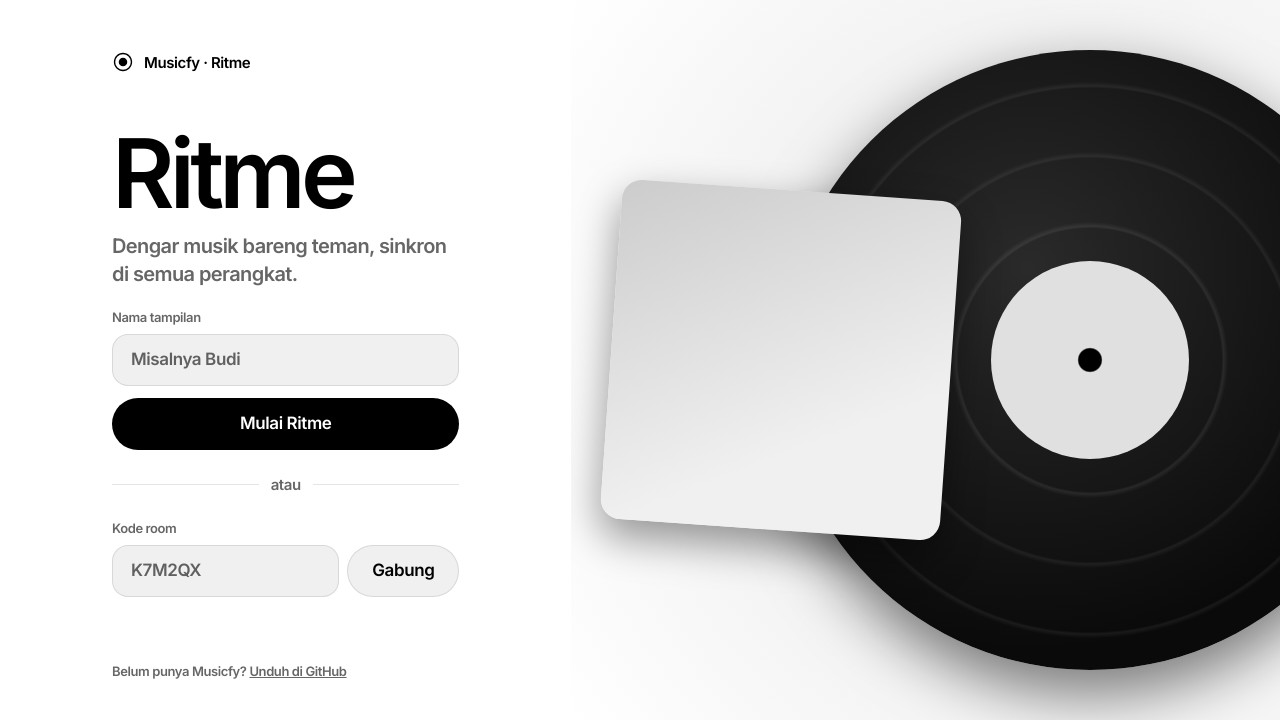
it: HomeScreen › refuses an empty name and a bad code
This screenshot has width=1280, height=720.
Click the button "Mulai Ritme".
click(286, 424)  # box [112,398,459,450]
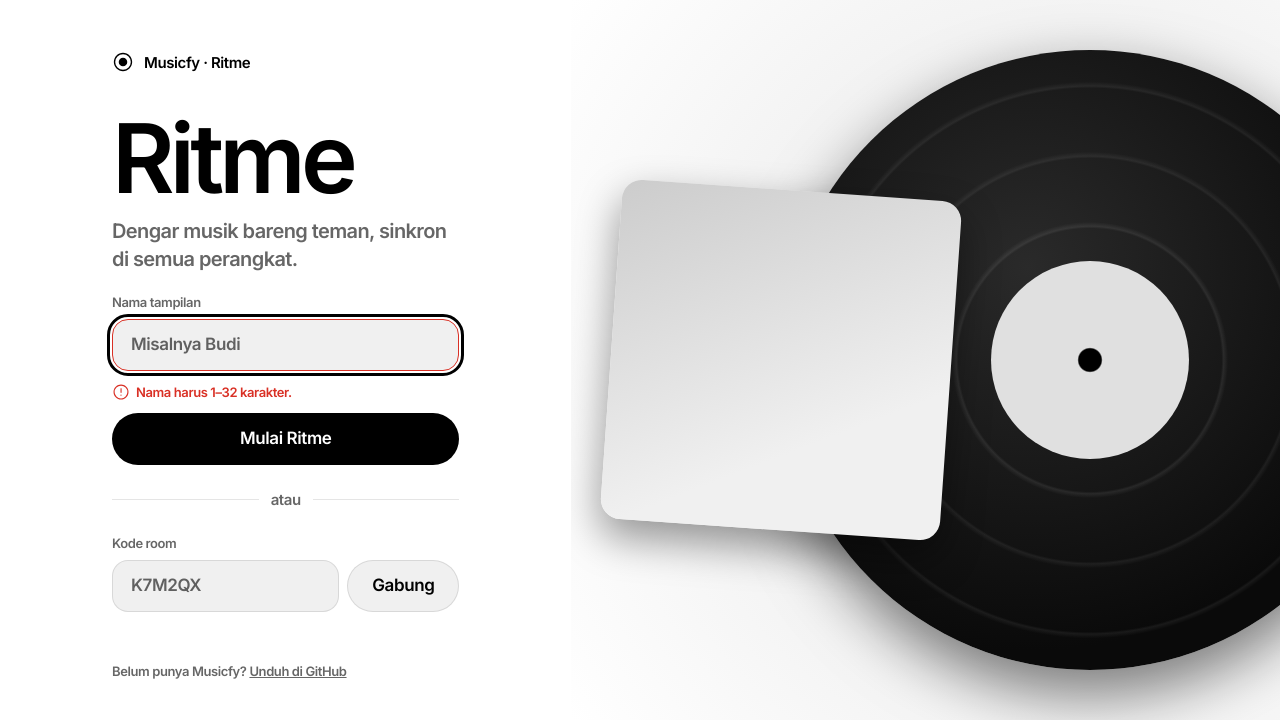
Now the message reads "Nama harus 1–32 karakter.", box [136,384,292,400]
Type "Sari" into the field labelled "Nama tampilan".
click(286, 345); type("Sari")  # box [112,319,459,371]
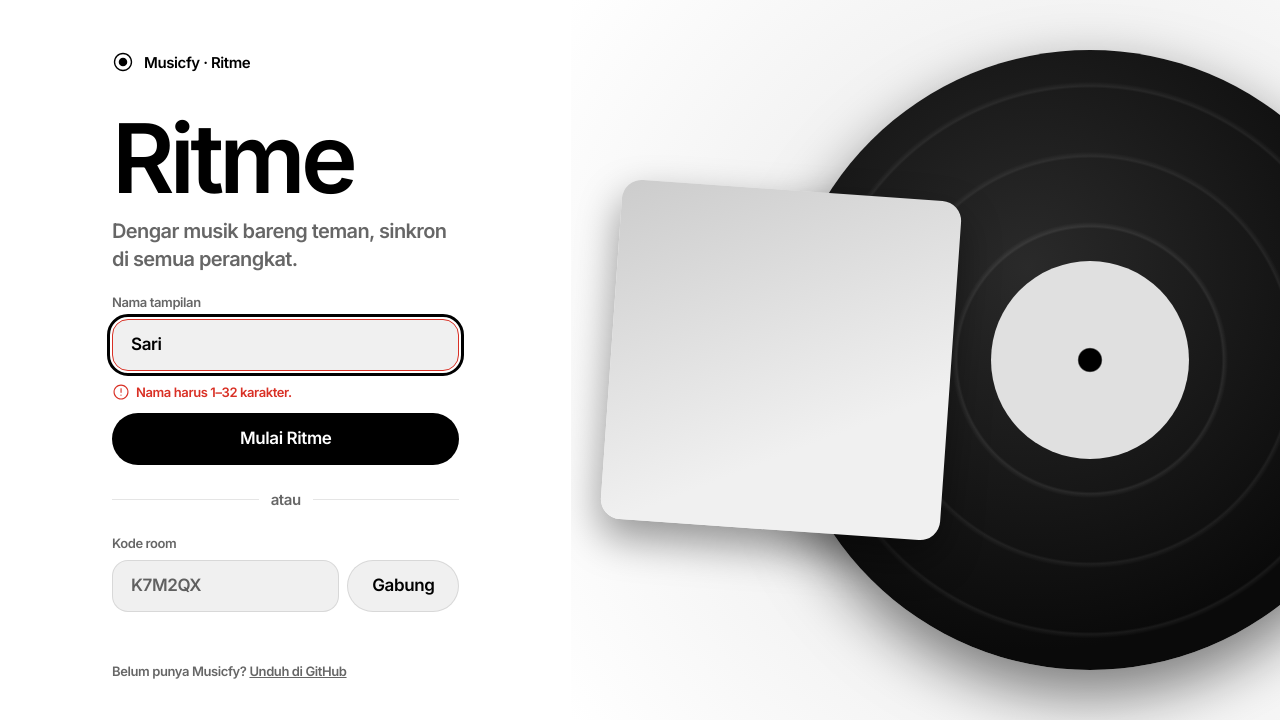
Type "abc" into the field labelled "Kode room".
click(226, 586); type("abc")  # box [112,560,339,612]
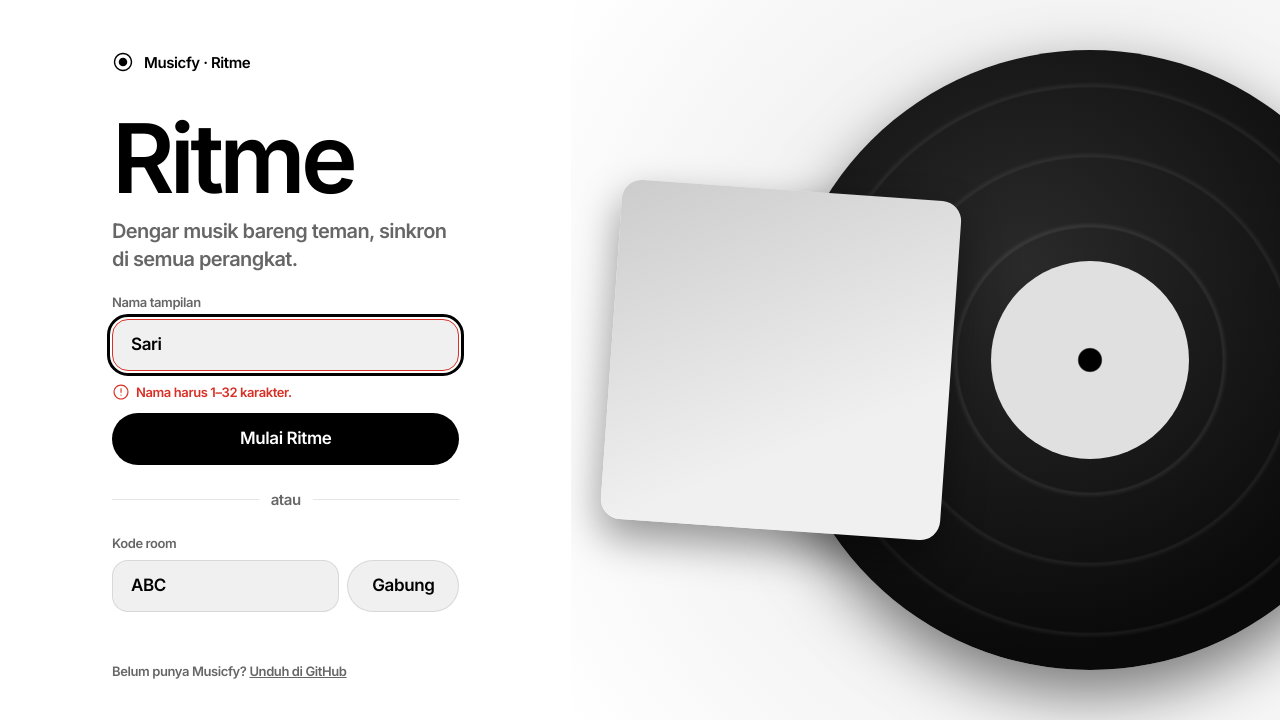
Click the button "Gabung".
click(403, 586)  # box [347,560,460,612]
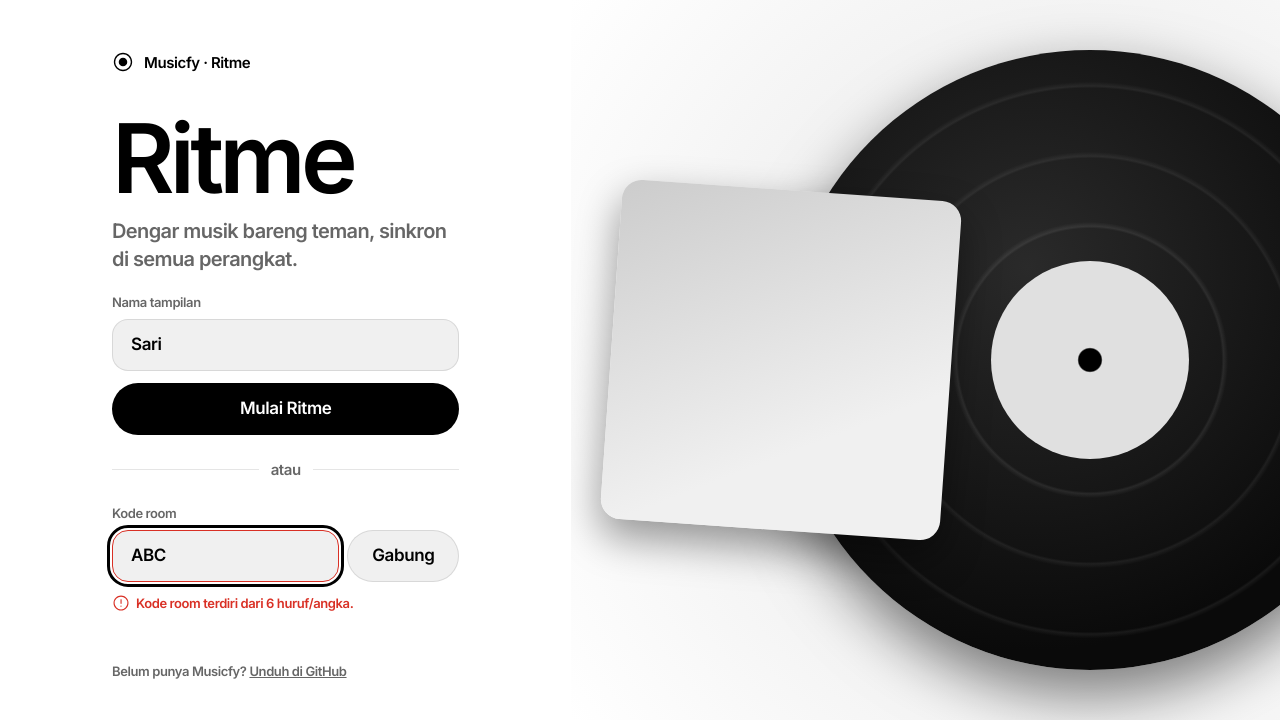
Now the message reads "Kode room terdiri dari 6 huruf/angka.", box [136,595,353,611]
